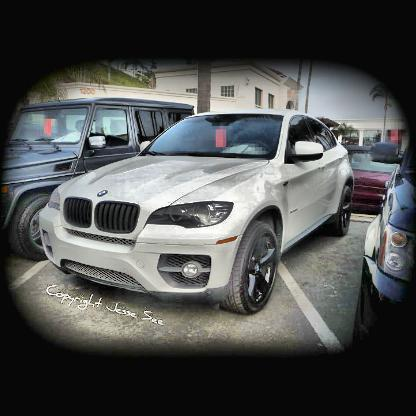BMW X6 SUV 2012: (38, 110, 357, 317)
